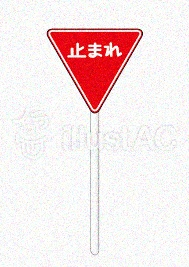Regulatory_sign_triangle: (43, 23, 145, 117)
